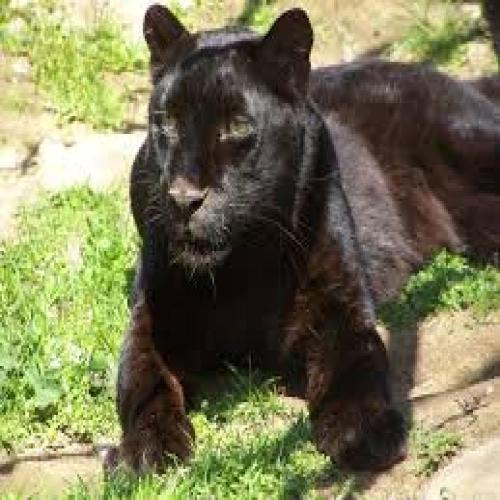panther-endangered: (124, 17, 500, 467)
